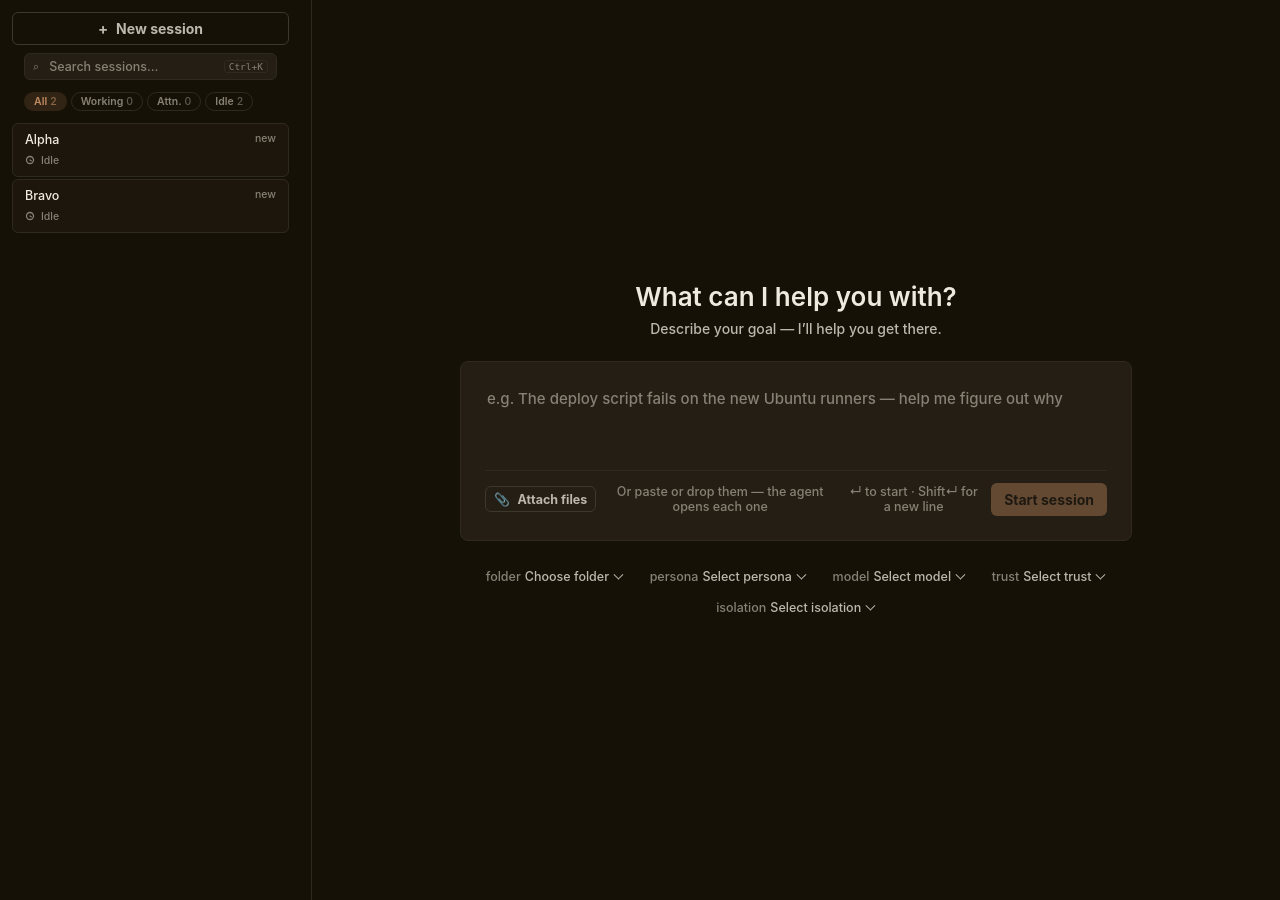
SessionsSurface › mounts the conversation for the selected session
What coordinates should you click on to do the following:
click the text "Alpha"
I would click on:
 (42, 140)
Its box is [25, 132, 59, 147].
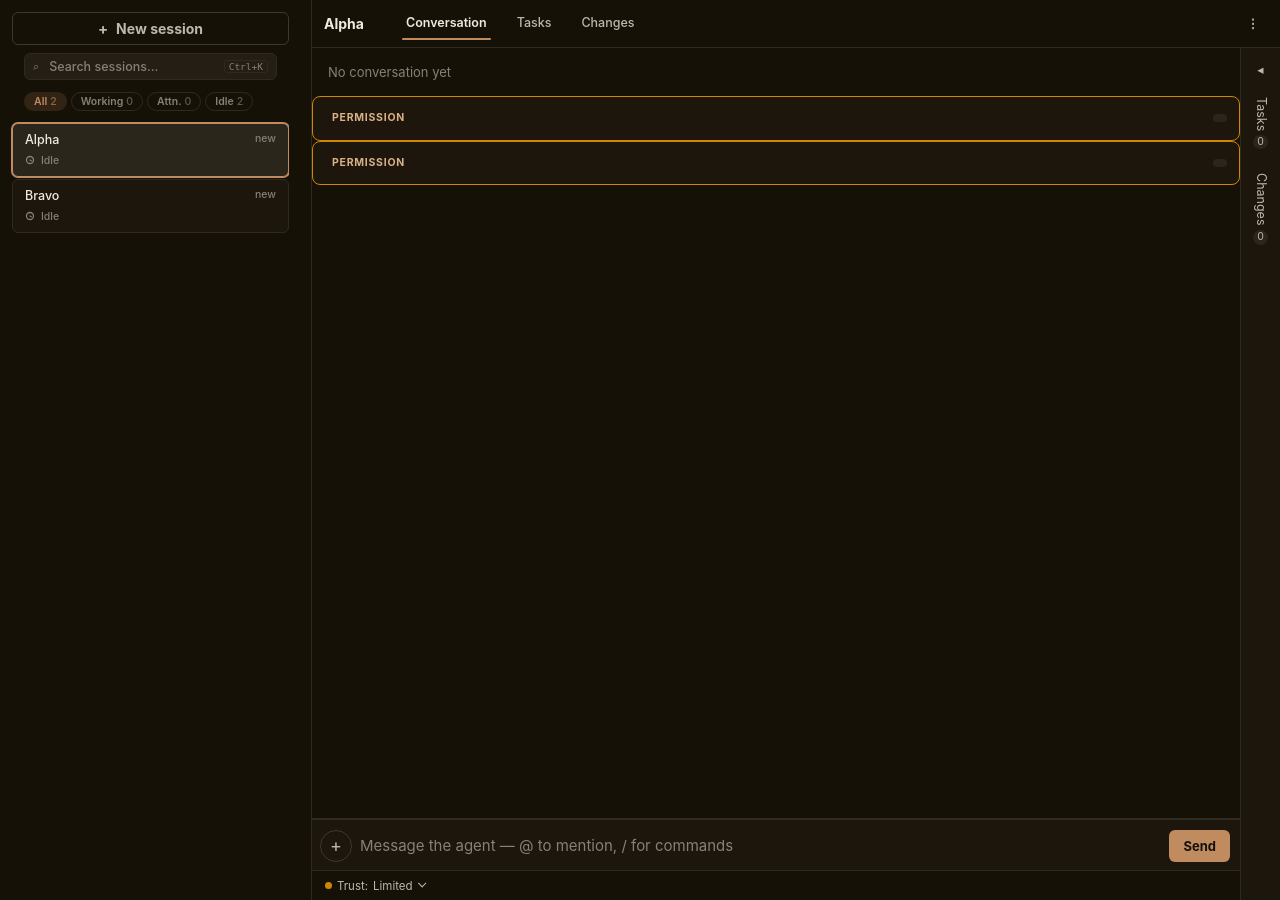
Now the button named "Workspace actions" is shown, box [1238, 10, 1268, 36]
Now the text box with placeholder "Message the agent — @ to mention, / for commands" is shown, box [358, 830, 1164, 862]
